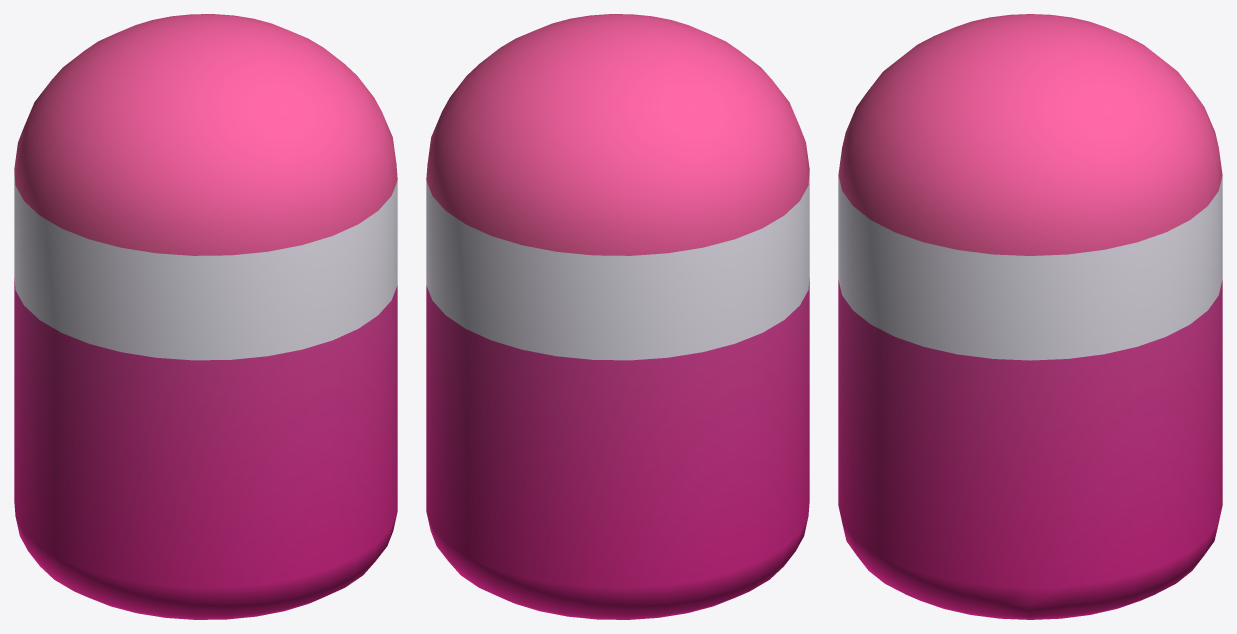
Rendered from bumper_post_1x1p5.glb.
3 renders of one model, left to right at view 1: azimuth 30°, elevation 25°; view 2: azimuth 150°, elevation 25°; view 3: azimuth 270°, elevation 25°, orthographic.
Parts seen in each view (by area): view 1: bumper_post_1x1p5; view 2: bumper_post_1x1p5; view 3: bumper_post_1x1p5.
Boxes of the visible parts, x1,y1,x2,y2 form: bumper_post_1x1p5: (14, 14, 397, 619); bumper_post_1x1p5: (426, 14, 809, 619); bumper_post_1x1p5: (838, 14, 1222, 619).
Size of the model in its own units: 1 by 1.5 by 1.
1 material, 1 textured.
